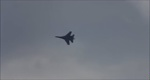maybay_muctieu: (55, 31, 76, 46)
